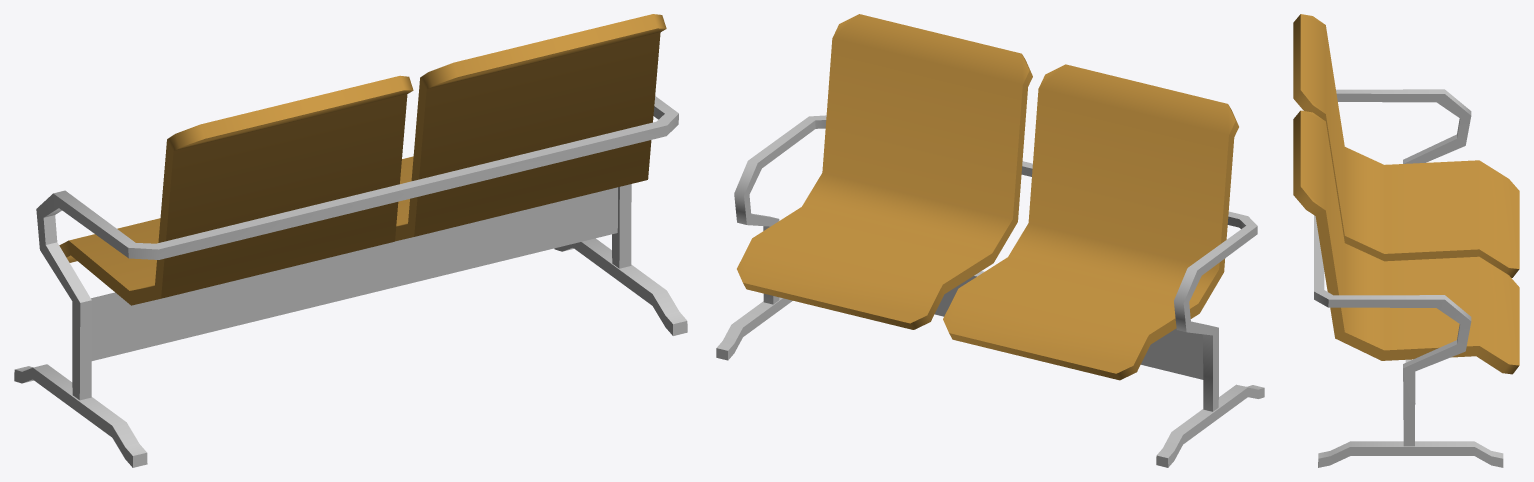
Rendered from SM_Chairs_03.fbx.
3 renders of one model, left to right at view 1: azimuth 30°, elevation 25°; view 2: azimuth 150°, elevation 25°; view 3: azimuth 270°, elevation 25°, orthographic. The views are drawn at different scales.
Visible parts, largest first — view 1: SM_Chairs_03; view 2: SM_Chairs_03; view 3: SM_Chairs_03.
Part boxes in pixels (x1,y1,x2,y2): SM_Chairs_03: (14, 14, 687, 467); SM_Chairs_03: (716, 14, 1264, 467); SM_Chairs_03: (1293, 14, 1519, 467).
Bounding box in the file's own units: 156 × 90.59 × 70.33.
